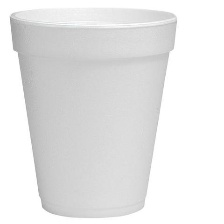glass: (4, 4, 179, 222)
